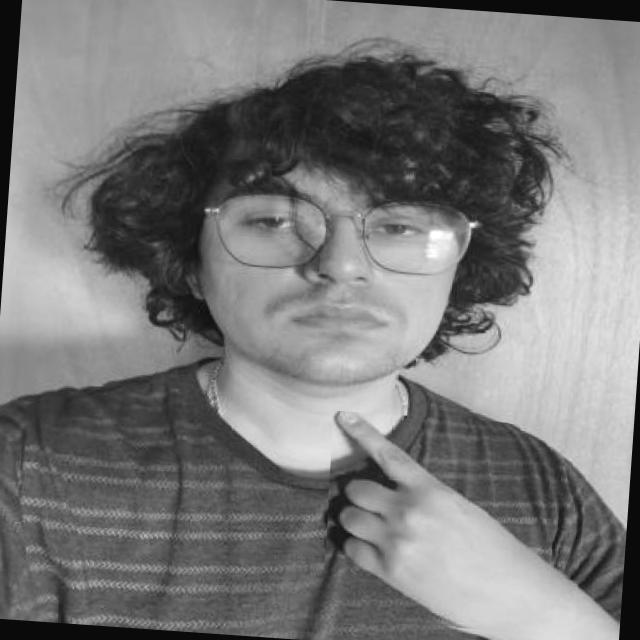Q: (318, 410, 588, 640)
